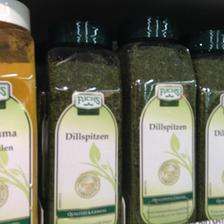Gewuerze: (46, 13, 122, 224), (124, 9, 196, 223)
